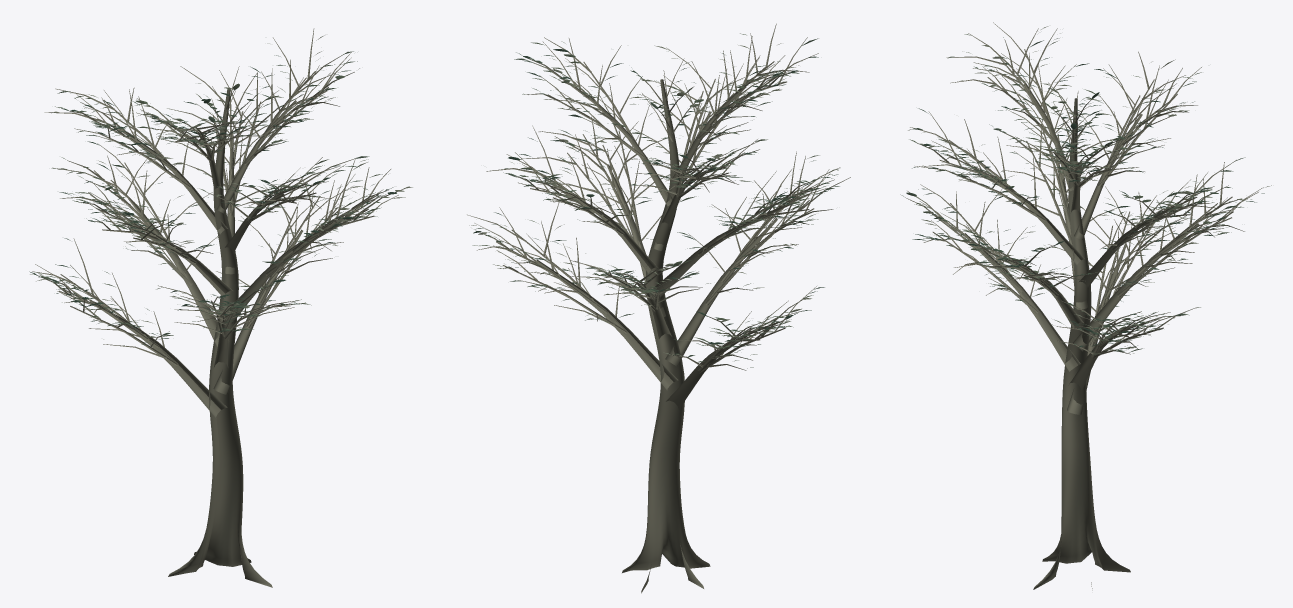
3 views of the same model, side by side, from view 1: azimuth 30°, elevation 25°; view 2: azimuth 150°, elevation 25°; view 3: azimuth 270°, elevation 25° (orthographic). The views are drawn at different scales.
Parts seen in each view (by area): view 1: branches, leaves; view 2: branches, leaves; view 3: branches, leaves.
Boxes of the visible parts, x1,y1,x2,y2 form: branches: [32, 28, 404, 587]; leaves: [29, 35, 412, 345]; branches: [467, 23, 850, 593]; leaves: [469, 33, 839, 368]; branches: [905, 22, 1263, 590]; leaves: [900, 26, 1271, 354].
Bounding box in the file's own units: 6.02 × 8.71 × 5.94.
